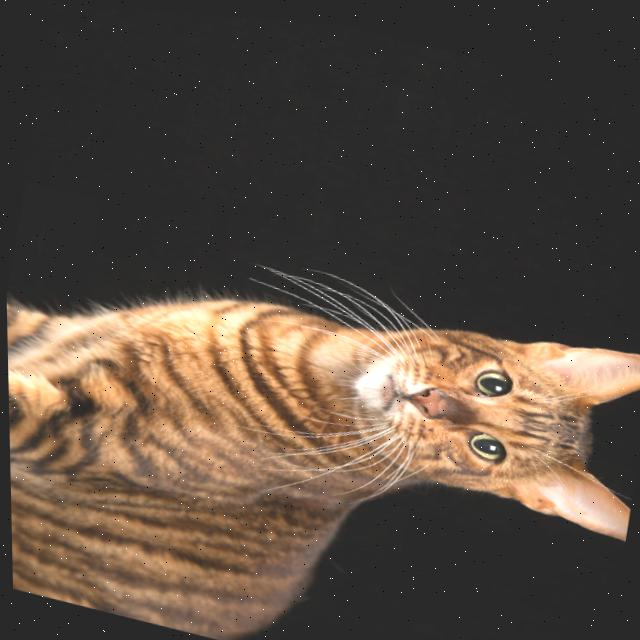Toyger: (3, 192, 640, 640)
